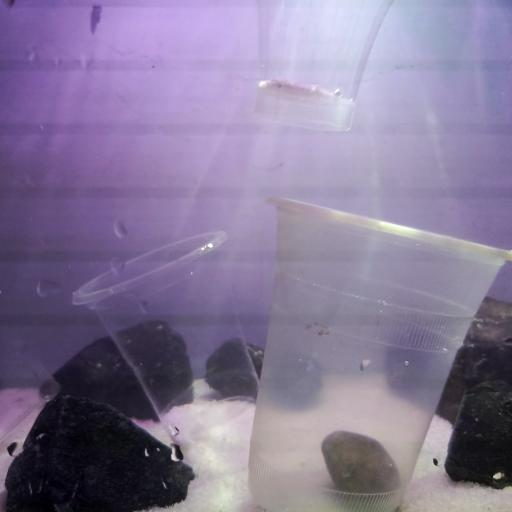plastic_cup: (246, 194, 511, 512), (70, 230, 261, 447), (253, 0, 396, 134)
